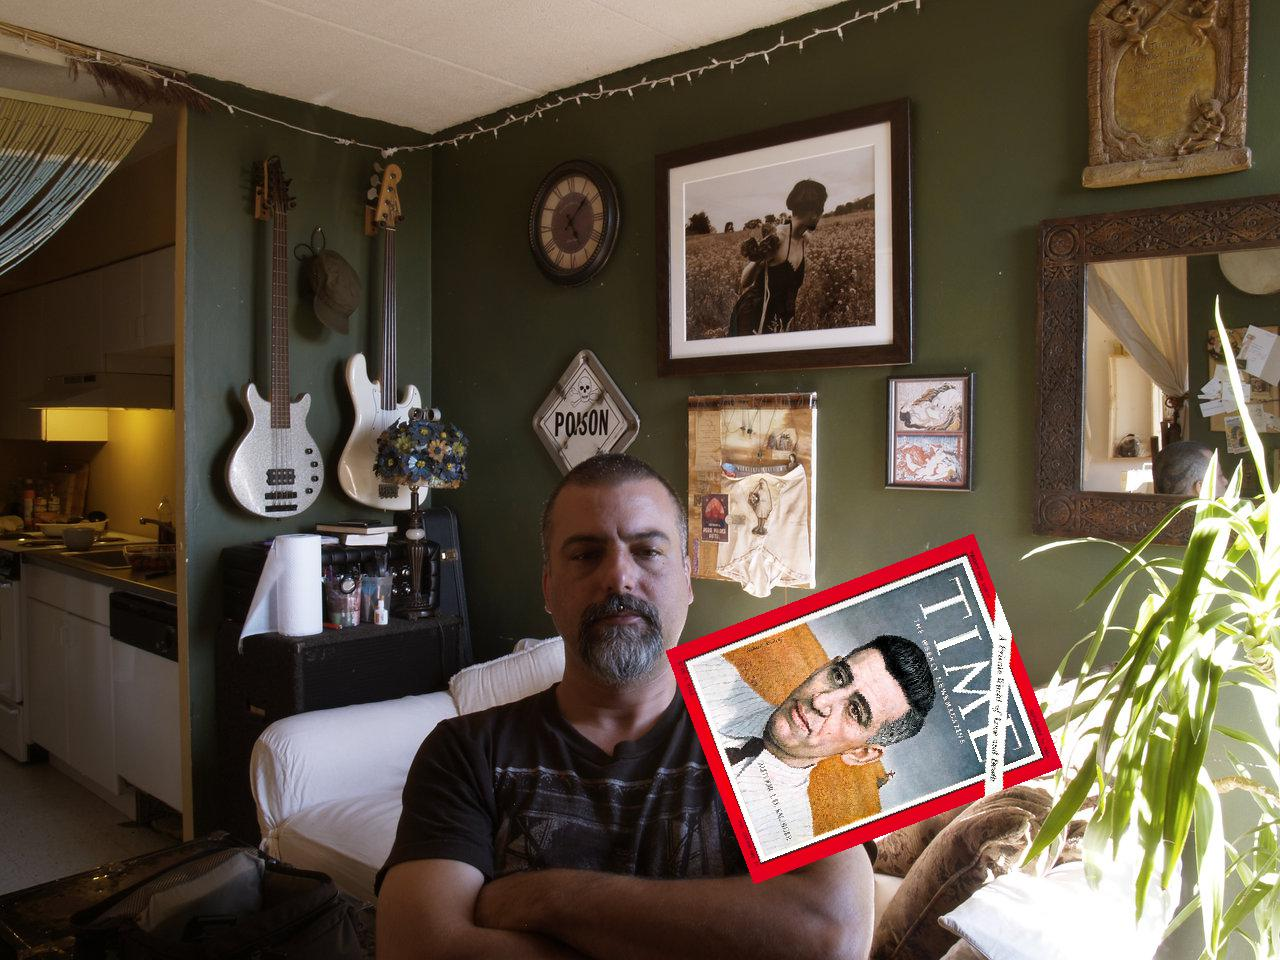times: (665, 522, 1080, 883)
